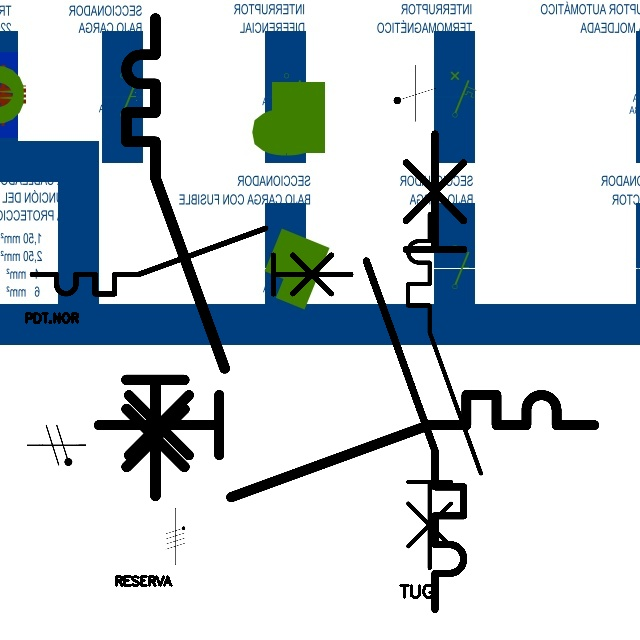interruptor_termomagnetico: (85, 382, 606, 509), (114, 6, 237, 508), (354, 121, 476, 622), (399, 205, 490, 577), (24, 220, 359, 302)
